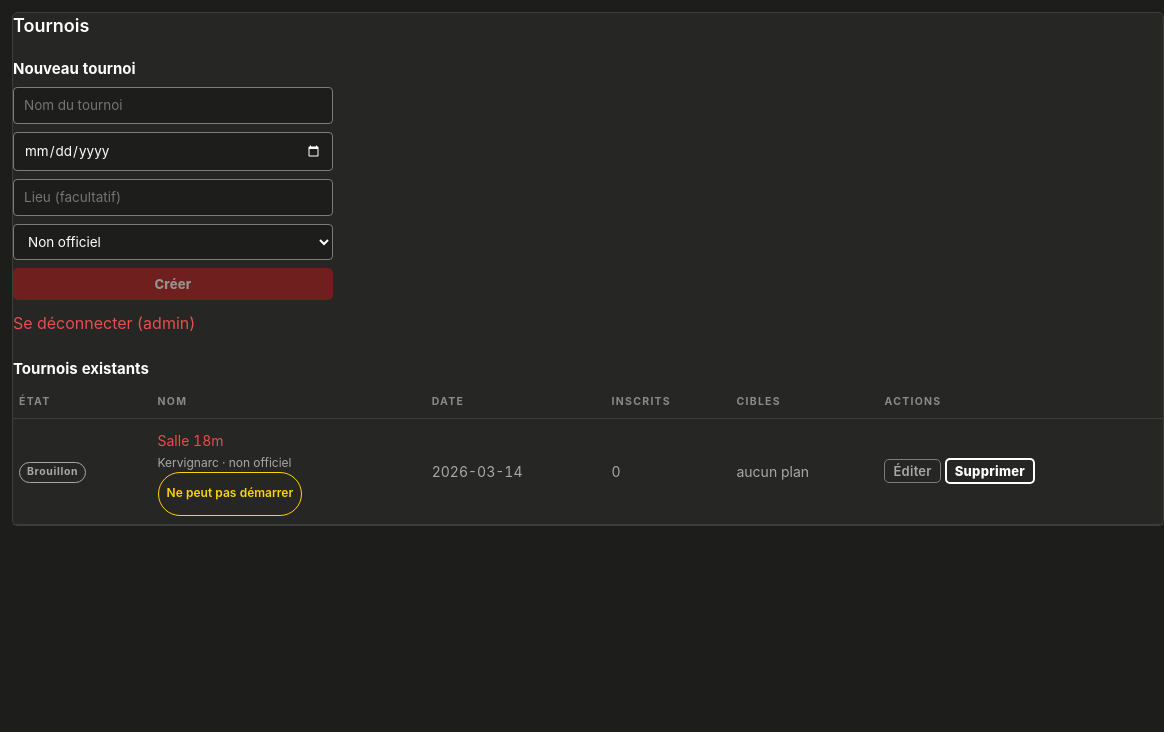
Test: pastille de préparation en liste › D-16 au doigt — la cause s’ouvre au CLIC, pas seulement au survol
The width and height of the screenshot is (1164, 732).
Click the button "Ne peut pas démarrer" at point(230, 494), box [158,472,302,516]
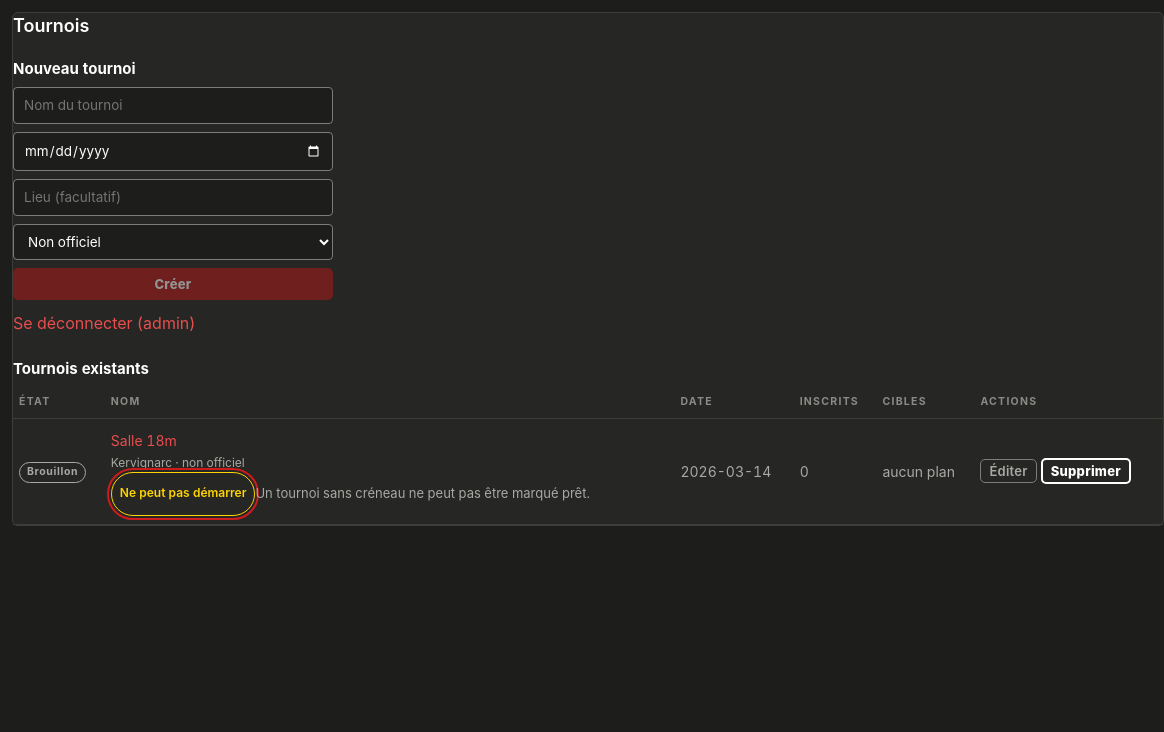
Expected: the text "Un tournoi sans créneau ne peut pas être marqué prêt." is shown, [255,484,590,500]
